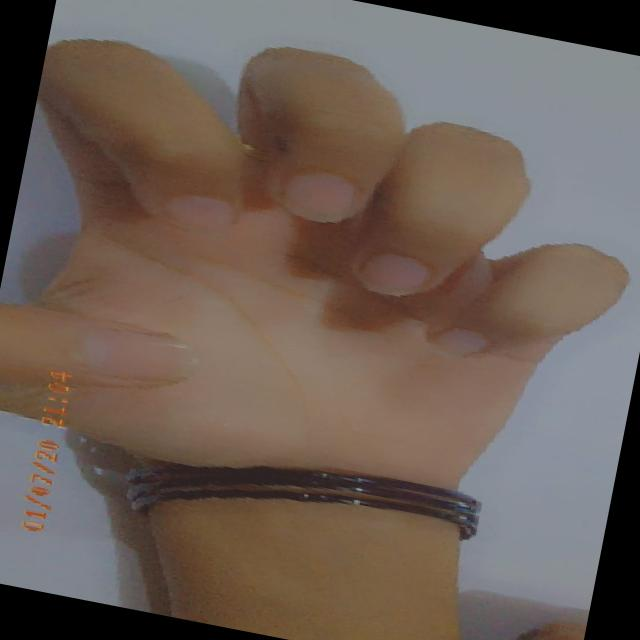Nail: (81, 325, 189, 381), (285, 173, 358, 223), (361, 253, 428, 298), (166, 196, 232, 229), (429, 327, 489, 357)
